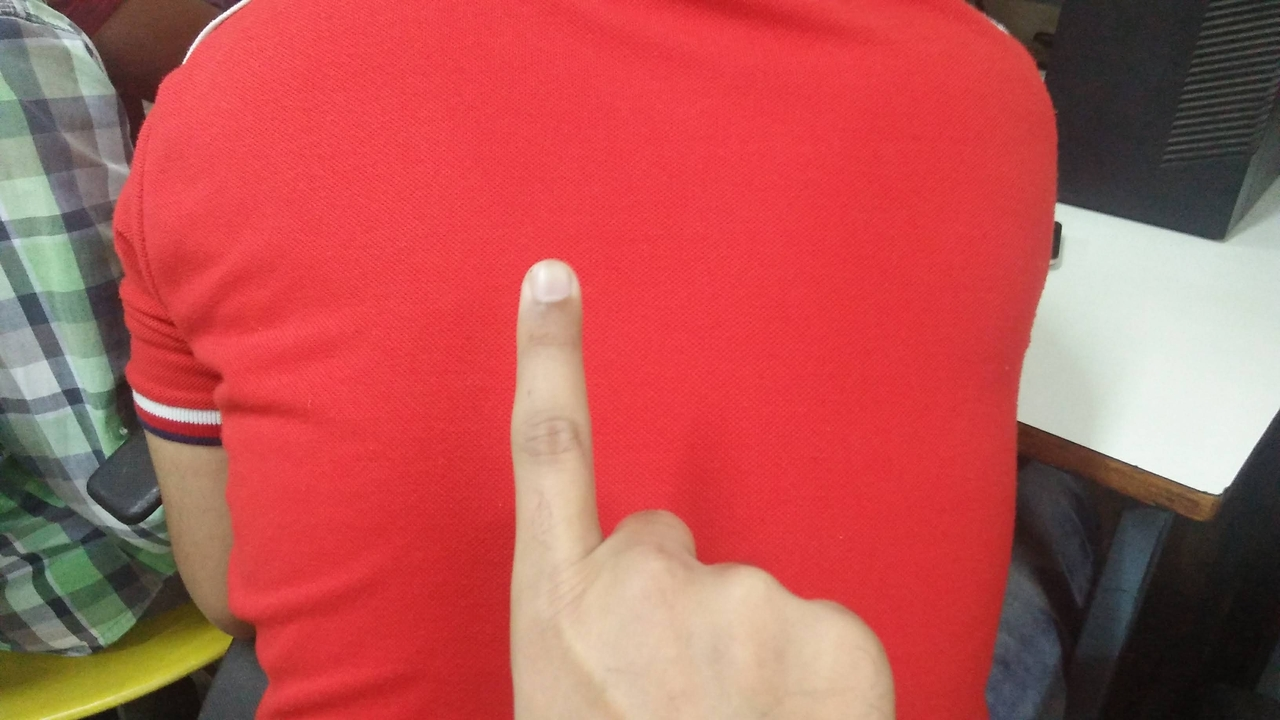fingertip: (512, 252, 582, 318)
